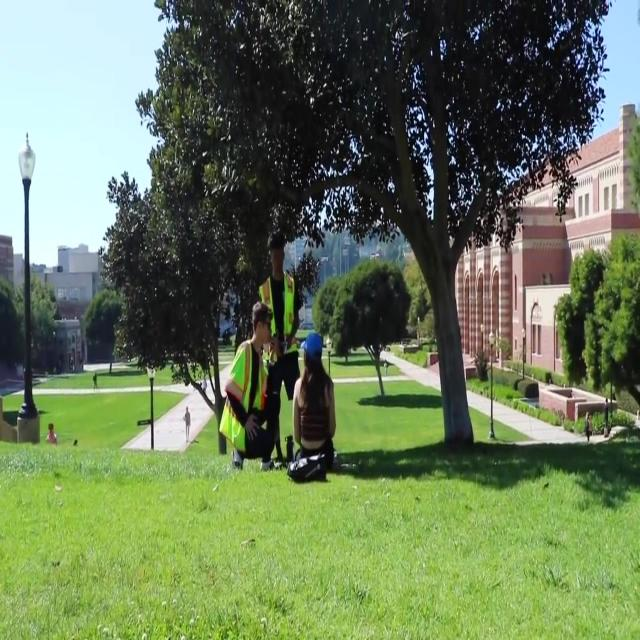Reflective-Jacket: (221, 338, 281, 448), (255, 271, 302, 365)
